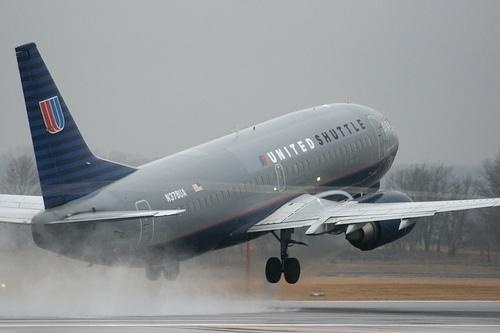aeroplane: (1, 42, 498, 284)
